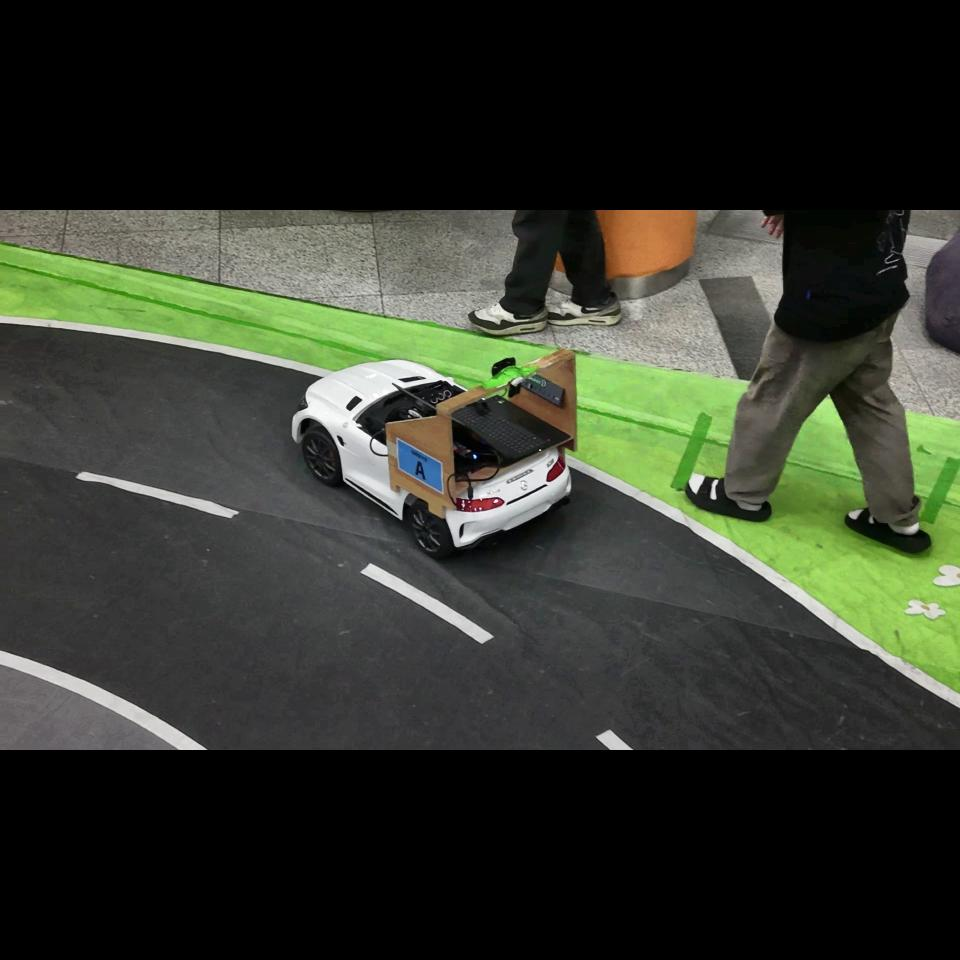broken_line: (360, 562, 494, 644), (74, 472, 240, 519), (595, 729, 634, 750)
